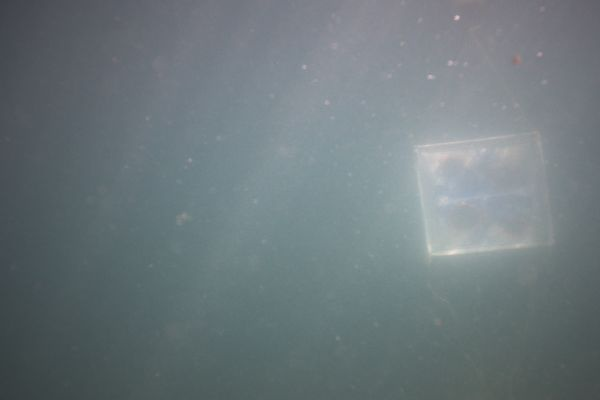torpille: (414, 134, 554, 254)
torpille_target: (449, 206, 477, 235), (444, 158, 462, 176)
